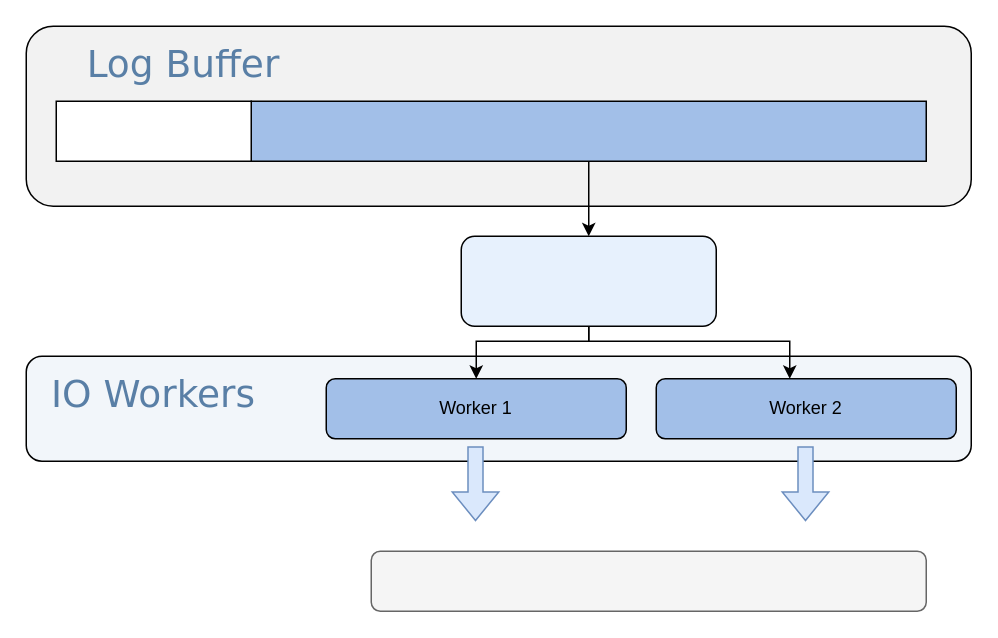
Image size: 998x638. Some labels were removed from this diagram. Here are the shapes that lost their labels. From the top down, the centre of each, then its label:
[588,280]: Log Writer / Backend
[648,580]: DISK
